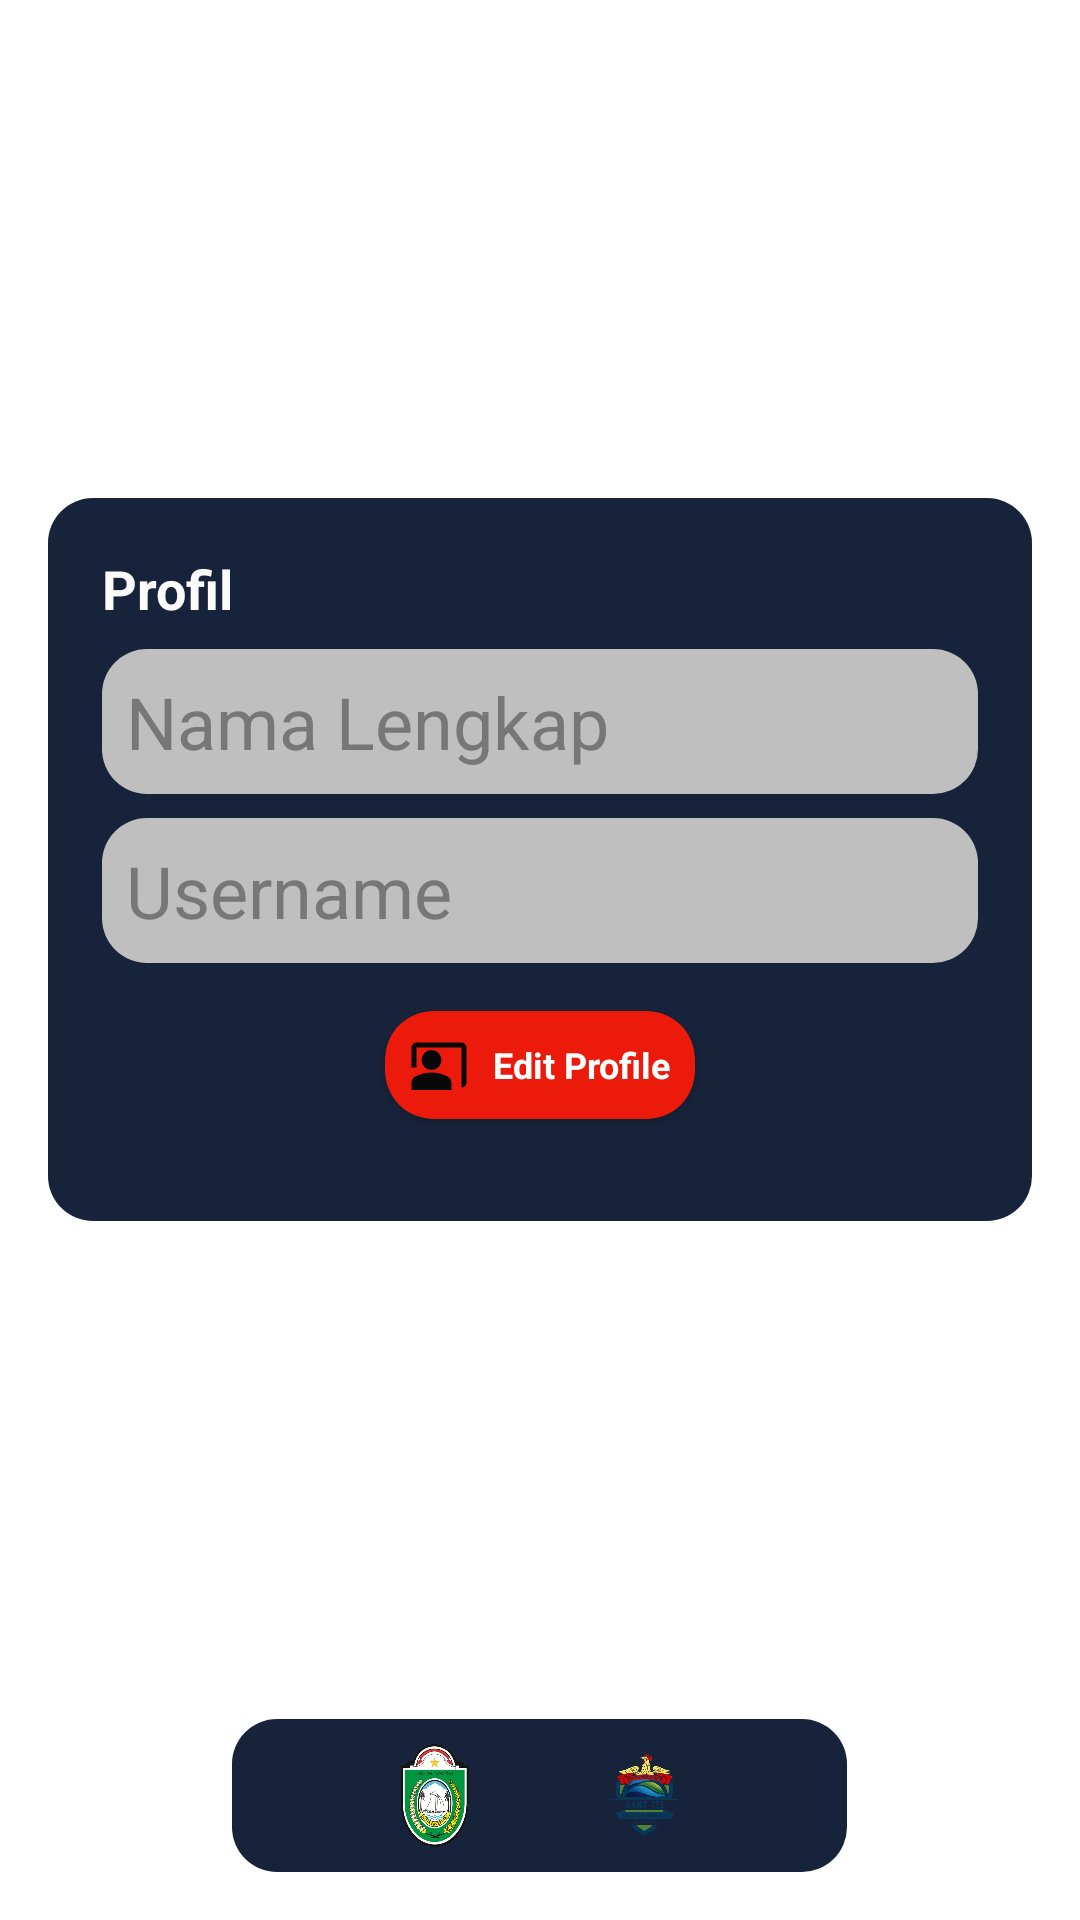

Icon bounding boxes for this 1080px x 1920px phone screenshot, format (x1, y1, x2, y2):
co present: (411, 1042, 467, 1090)
